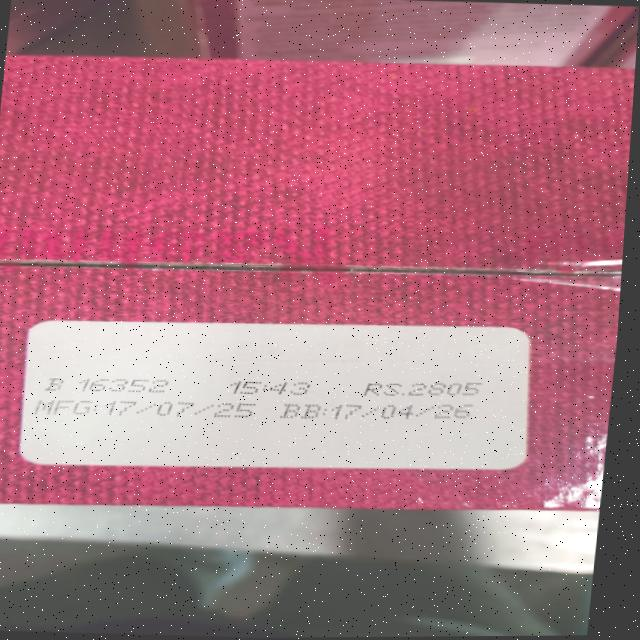BB: (284, 398, 478, 425)
Batch: (41, 375, 171, 395)
MFG: (35, 395, 250, 422)
RS: (363, 378, 487, 399)
TimeStamp: (228, 379, 315, 397)
